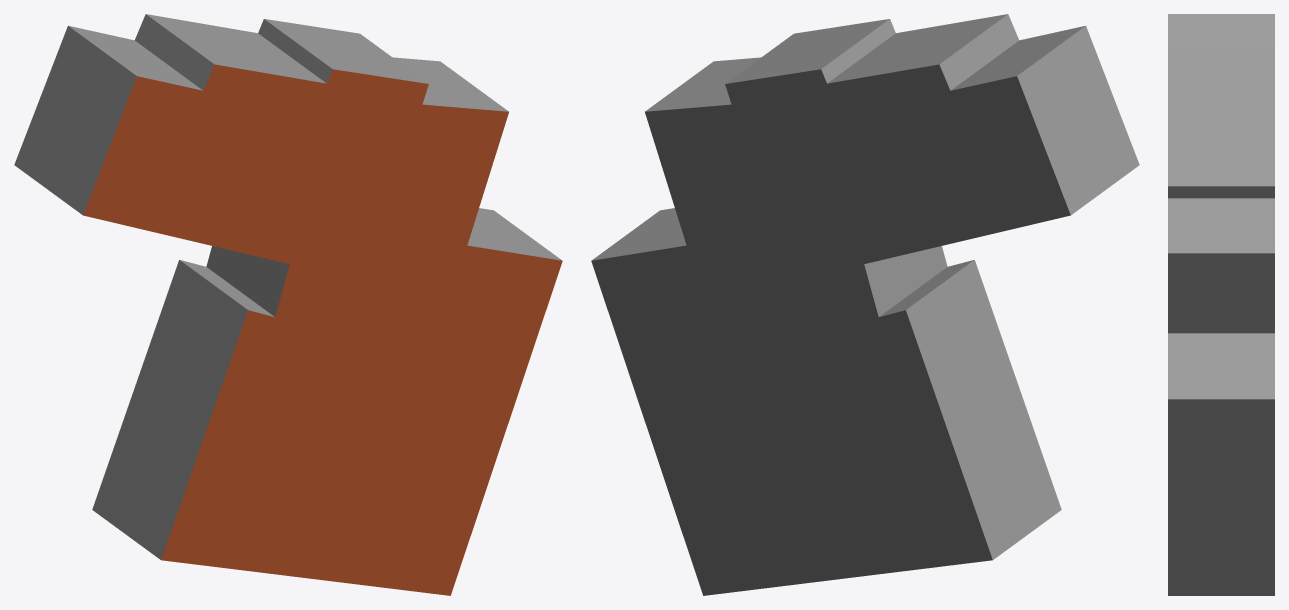
Rendered from construction_5550_assumed_A_Casa_h6m.obj.
The picture shows the model from 3 angles, left to right: view 1: azimuth 30°, elevation 25°; view 2: azimuth 150°, elevation 25°; view 3: azimuth 270°, elevation 25°; orthographic projection. The views are drawn at different scales.
Visible parts, largest first — view 1: construction_5550_assumed_A_Casa; view 2: construction_5550_assumed_A_Casa; view 3: construction_5550_assumed_A_Casa.
Part boxes in pixels (x1,y1,x2,y2): construction_5550_assumed_A_Casa: (14, 14, 562, 595); construction_5550_assumed_A_Casa: (591, 14, 1139, 595); construction_5550_assumed_A_Casa: (1168, 14, 1274, 595).
Bounding box in the file's own units: 24.12 × 28.66 × 6.
